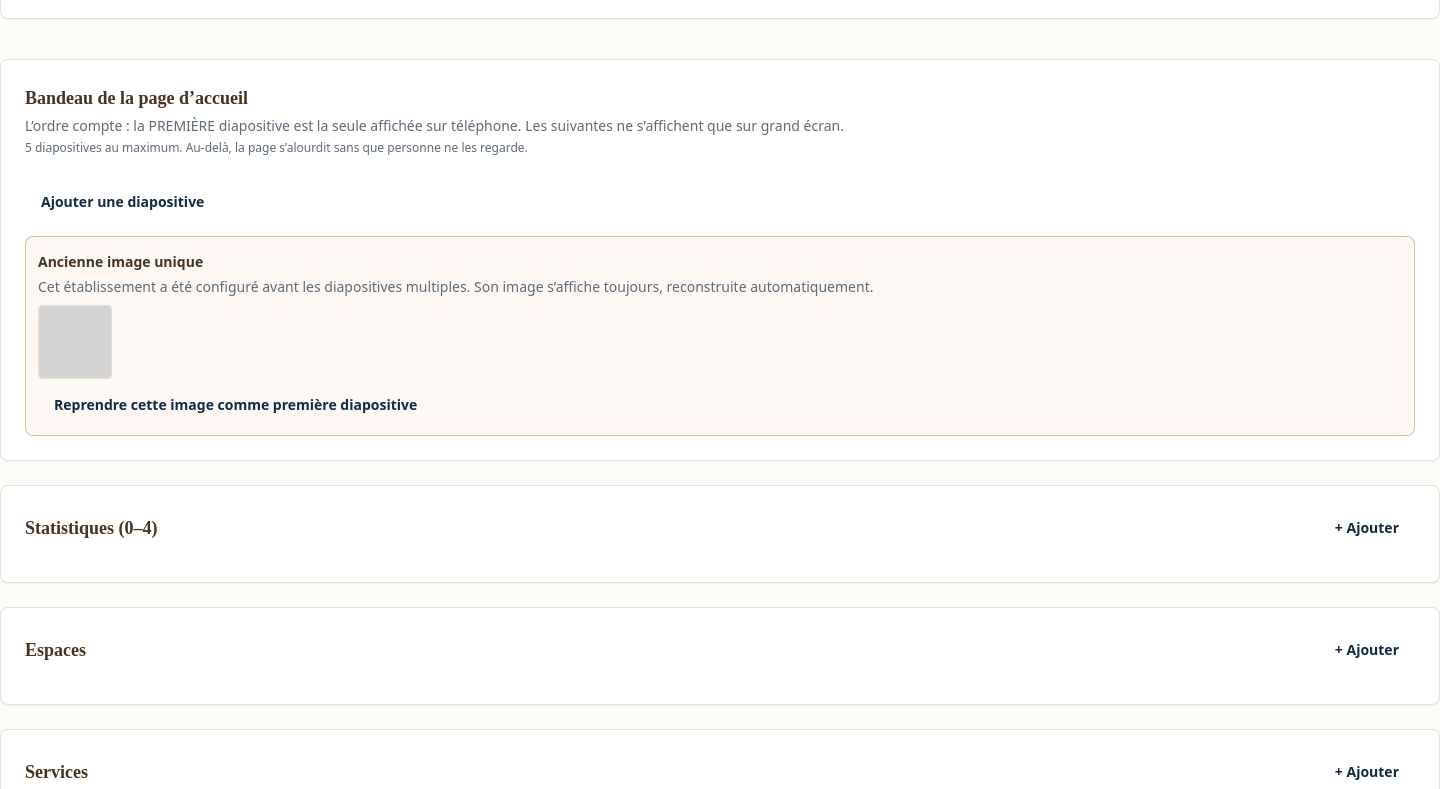
Test case: aucun champ sans effet ne reste affiché › la reprise est NON DESTRUCTIVE : elle copie, elle ne perd rien
(page scrolled)
Click the button "Reprendre cette image comme première diapositive".
click(236, 405)  # box x1=38 y1=387 x2=433 y2=423
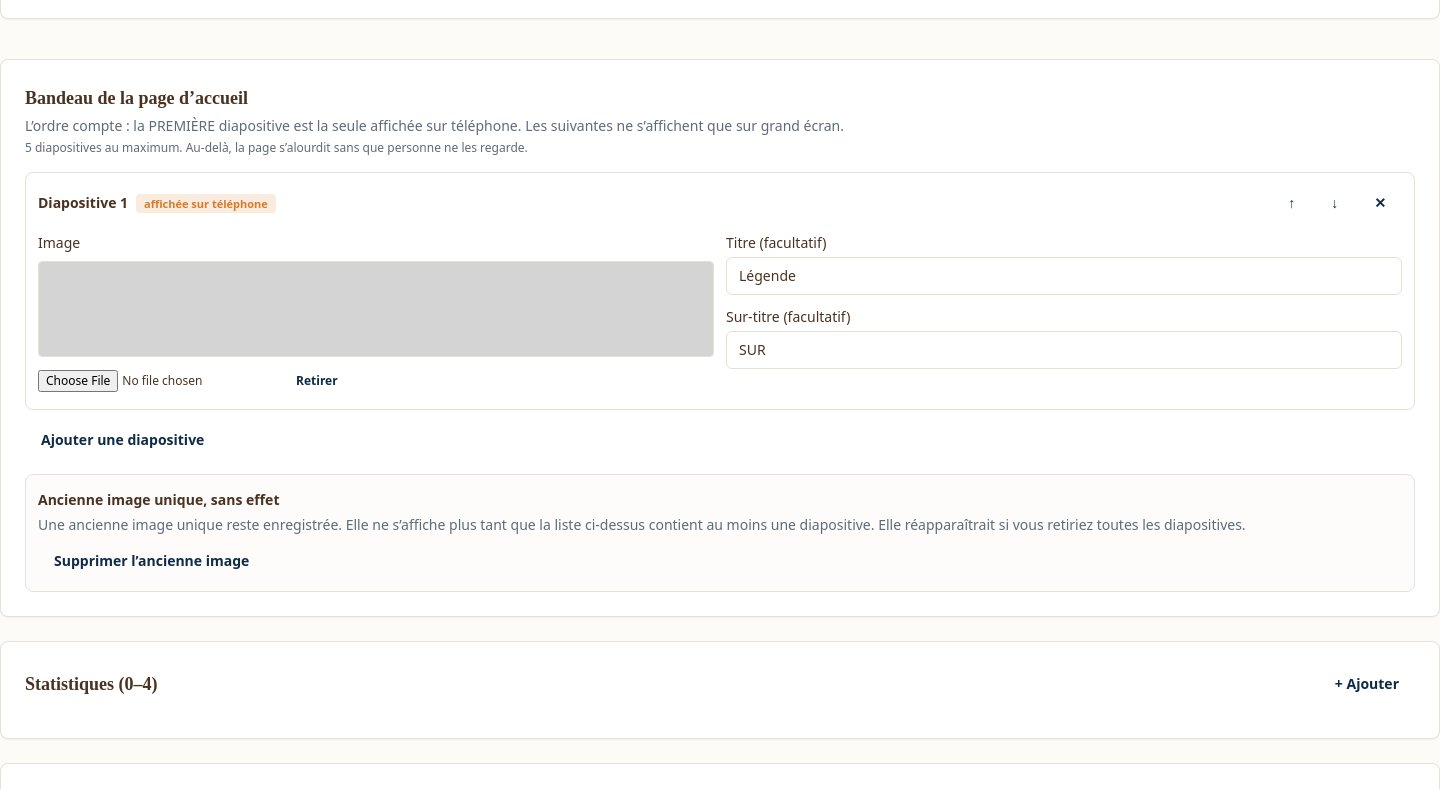
Expected: the field showing "Légende" is shown, x1=726 y1=257 x2=1402 y2=295
Expected: the field showing "SUR" is shown, x1=726 y1=331 x2=1402 y2=369
